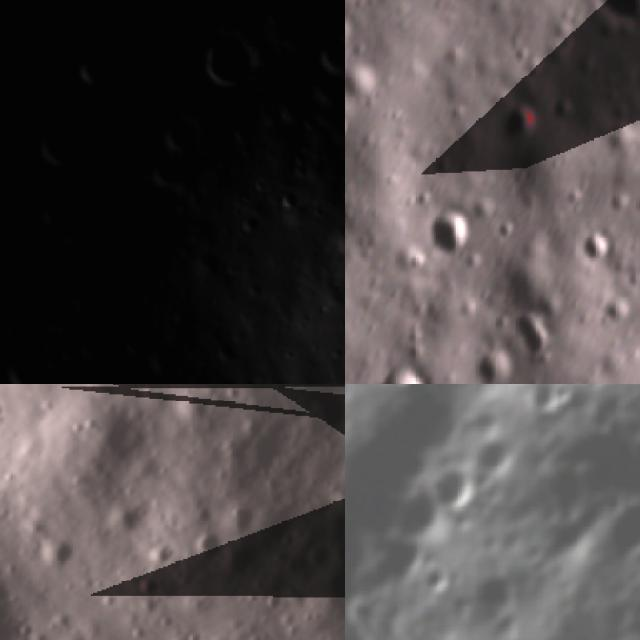crater: (0, 498, 63, 640), (195, 21, 270, 100), (401, 384, 545, 417), (421, 456, 494, 520), (461, 561, 529, 623), (146, 106, 217, 161), (504, 299, 562, 364), (211, 530, 274, 588), (29, 120, 87, 178), (420, 205, 480, 261), (469, 430, 526, 488), (35, 524, 91, 582), (251, 0, 320, 46), (598, 488, 640, 562), (70, 45, 126, 96), (0, 337, 56, 384), (105, 492, 152, 543), (498, 99, 542, 147), (293, 538, 338, 581), (249, 585, 293, 627), (311, 27, 345, 80), (416, 558, 457, 601), (469, 349, 515, 384), (124, 566, 166, 604), (143, 330, 177, 375), (318, 534, 345, 588), (345, 589, 390, 620), (201, 362, 258, 384), (370, 364, 431, 384), (549, 384, 583, 411), (379, 384, 424, 396), (345, 110, 357, 149)
